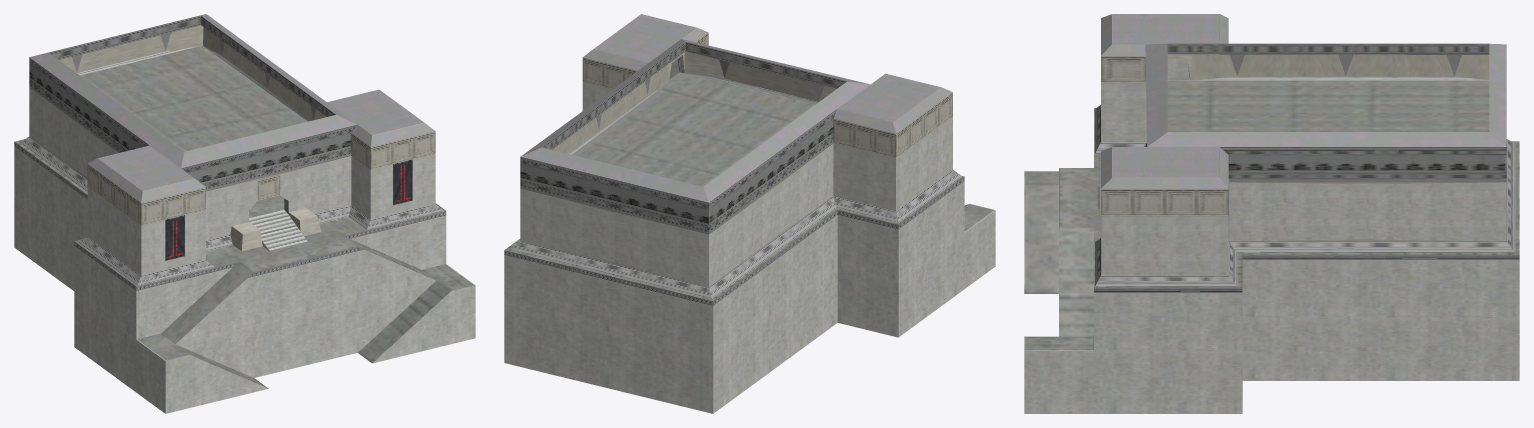
File: ply_corl_assoc_hall_civ_s01_r0_exterior_mesh_exterior_l2.fbx
3 renders of one model, left to right at view 1: azimuth 30°, elevation 25°; view 2: azimuth 150°, elevation 25°; view 3: azimuth 270°, elevation 25°, orthographic. The views are drawn at different scales.
Visible parts, largest first — view 1: mesh_node; view 2: mesh_node; view 3: mesh_node.
Part boxes in pixels (x1,y1,x2,y2): mesh_node: (14, 14, 475, 413); mesh_node: (504, 14, 995, 413); mesh_node: (1024, 14, 1519, 413).
Bounding box in the file's own units: 49 × 30 × 57.
2 materials, 2 textured.
